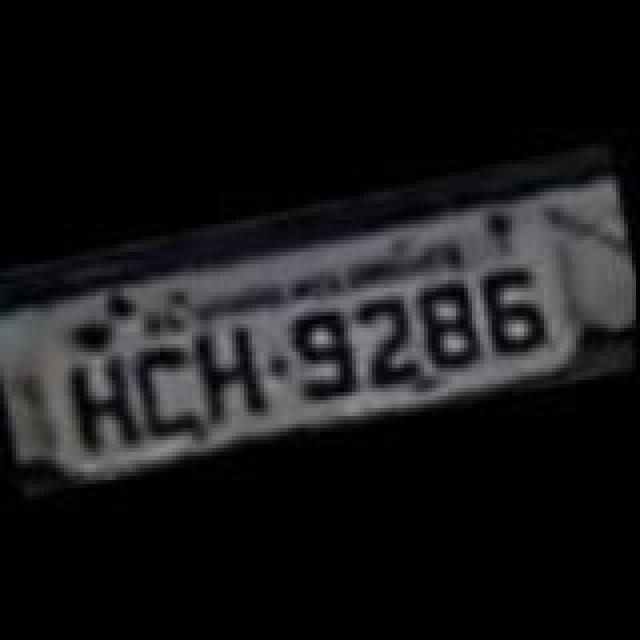2: (350, 284, 426, 392)
6: (476, 256, 556, 360)
8: (414, 274, 490, 378)
9: (286, 300, 362, 404)
C: (126, 330, 206, 442)
H: (188, 318, 268, 430), (62, 348, 142, 460)
